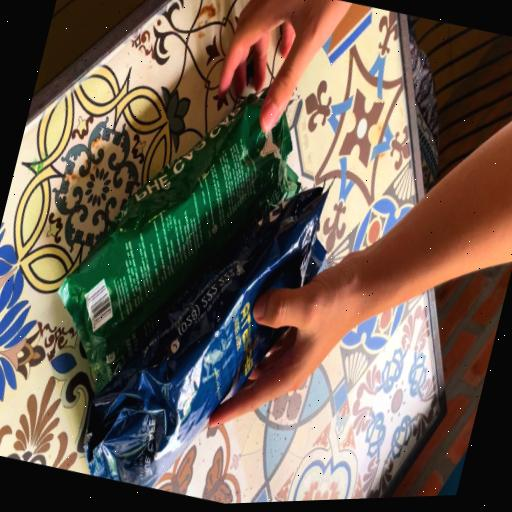cafe_hat: (84, 188, 327, 488), (197, 5, 215, 19)
cafe_xay: (58, 95, 298, 388)
